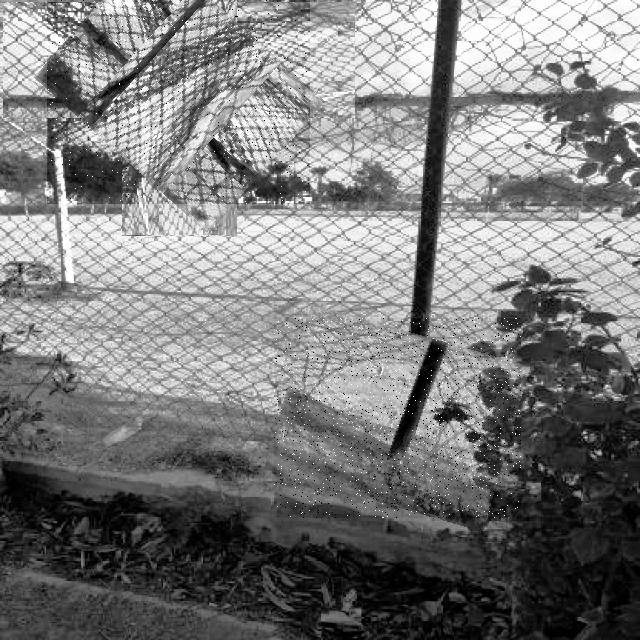anomaly-fence: (47, 0, 310, 204), (274, 318, 521, 518)
